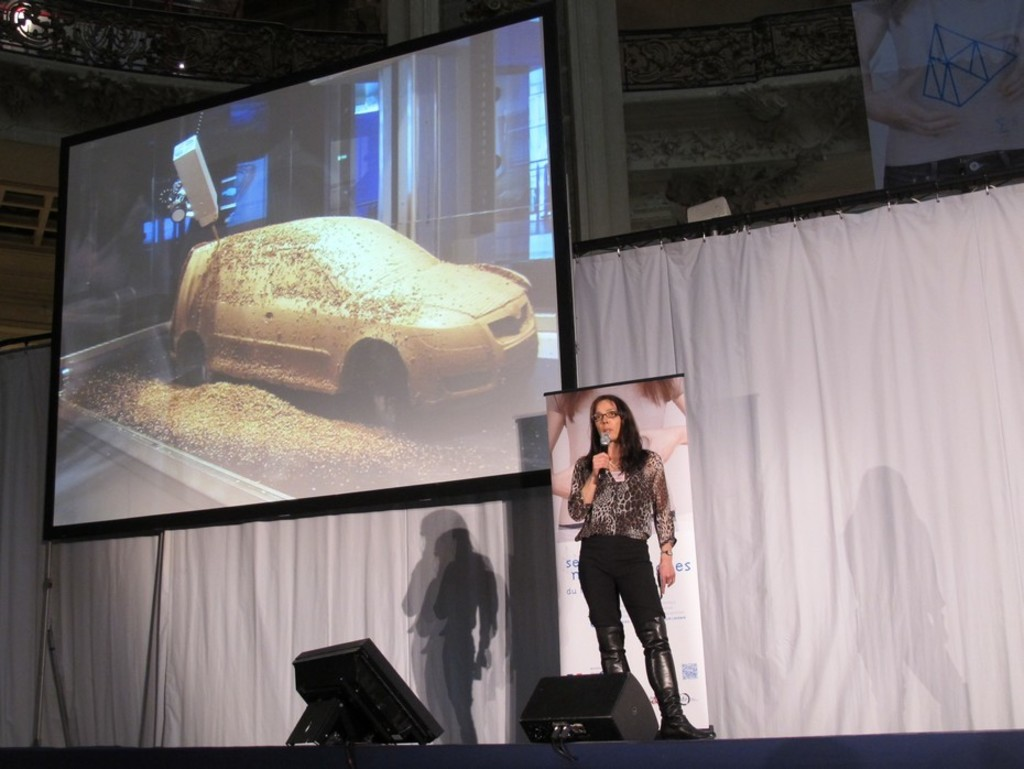Car: (170, 213, 541, 437)
